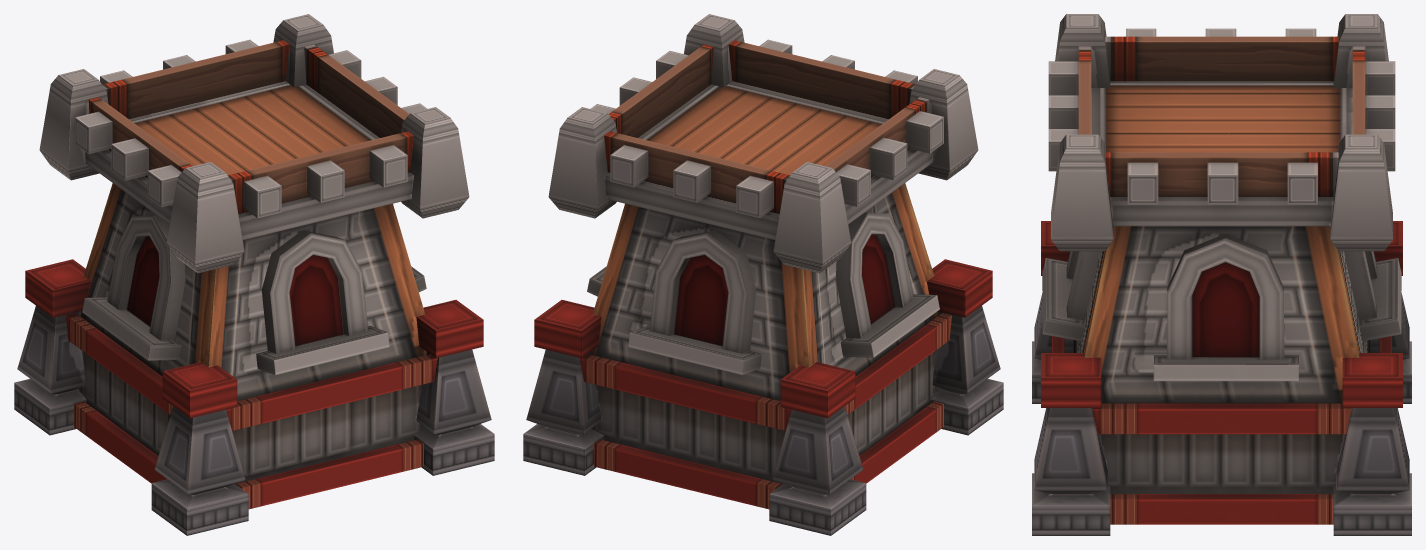
Rendered from ArcherTower_Level3.FBX.
3 views of the same model, side by side, from view 1: azimuth 30°, elevation 25°; view 2: azimuth 150°, elevation 25°; view 3: azimuth 270°, elevation 25° (orthographic). The views are drawn at different scales.
Parts seen in each view (by area): view 1: ArcherTower_Level3; view 2: ArcherTower_Level3; view 3: ArcherTower_Level3.
Boxes of the visible parts, box(x1,y1,x2,y2) form: ArcherTower_Level3: box(14, 14, 494, 535); ArcherTower_Level3: box(523, 14, 1003, 535); ArcherTower_Level3: box(1032, 14, 1411, 535).
Size of the model in its own units: 46.63 by 49.07 by 45.37.
